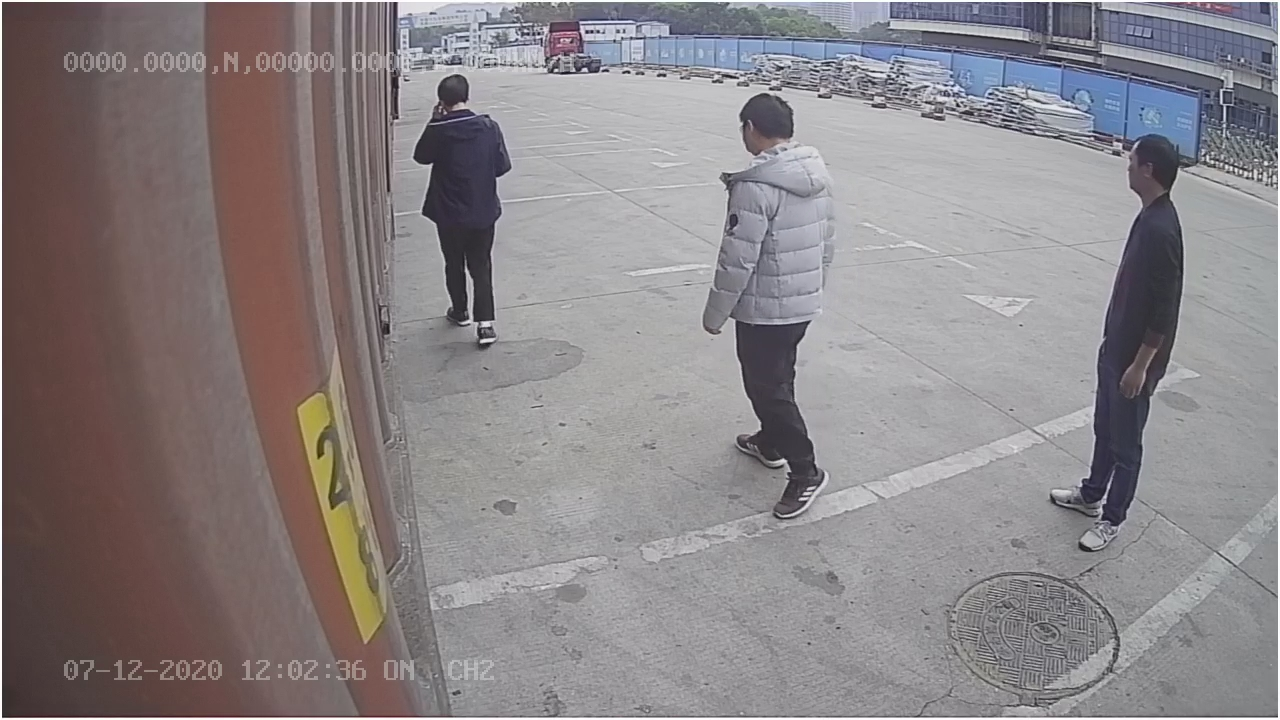person: (699, 92, 835, 525), (1047, 133, 1188, 549), (410, 68, 521, 347)
